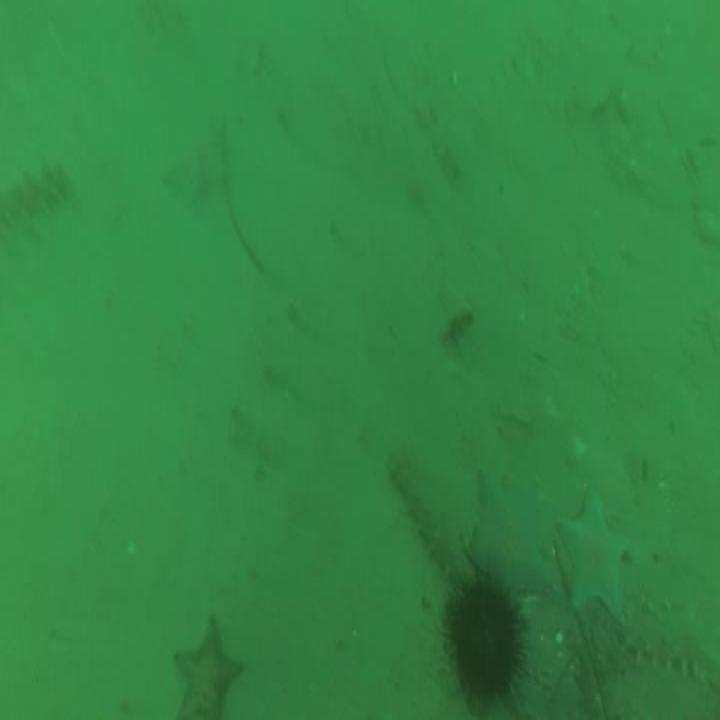echinus: (449, 574, 523, 706)
holothurian: (390, 448, 471, 599), (624, 599, 717, 685), (3, 158, 70, 231)
starfish: (468, 474, 554, 604), (557, 487, 633, 624), (172, 612, 240, 714)
